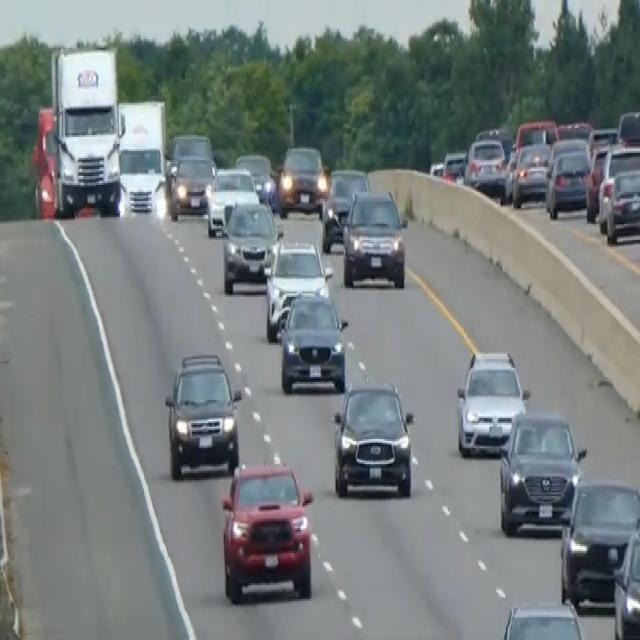car: (220, 457, 314, 603), (497, 407, 586, 535), (559, 476, 639, 608), (163, 348, 242, 478), (331, 378, 415, 499), (455, 347, 529, 457), (278, 286, 348, 393), (262, 234, 332, 340), (341, 188, 408, 288), (219, 194, 281, 293), (321, 165, 370, 251), (496, 596, 589, 638), (205, 164, 258, 236), (277, 142, 328, 215), (611, 516, 639, 638), (544, 146, 590, 218), (169, 149, 215, 219), (603, 164, 639, 244), (511, 139, 552, 208), (463, 135, 507, 196), (234, 150, 277, 207), (584, 142, 611, 220), (165, 130, 212, 170), (513, 116, 558, 151), (616, 106, 639, 148), (441, 149, 466, 183)
lorry: (32, 45, 124, 218)
